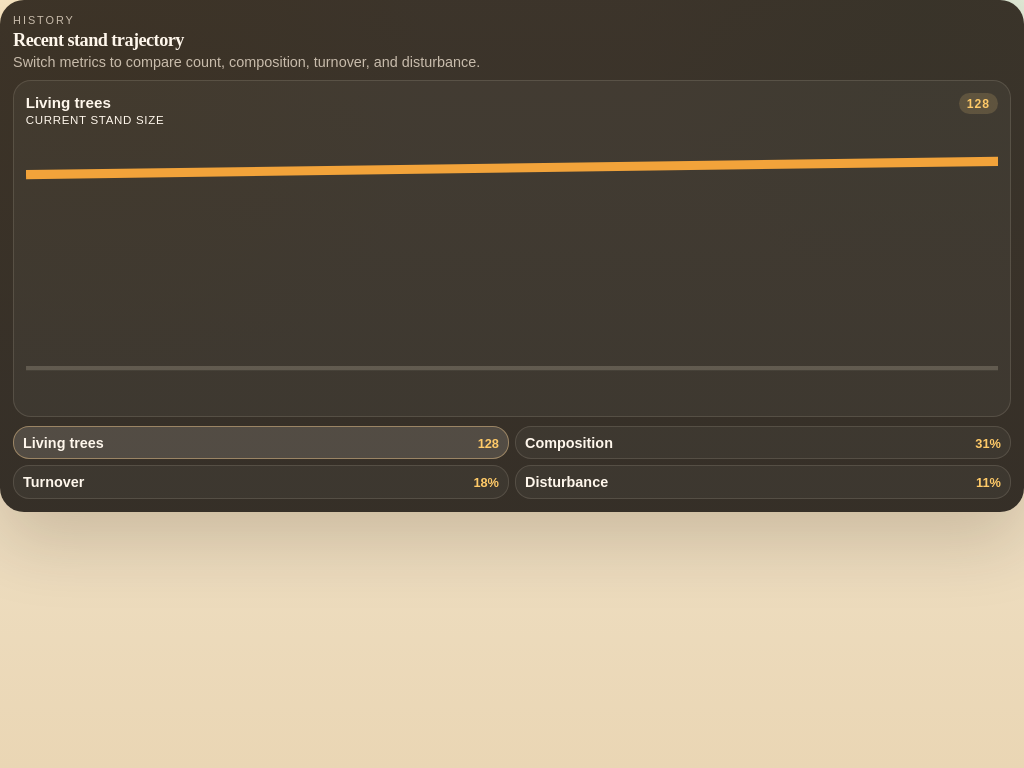
Test case: ChartsPanel › switches to the composition trend and shows the temperament legend
Check: the picture named "Living trees trend" is shown, box [26,137,998,405]
Check: the text "Large Gambler" is not shown
Click the button with aria-label "composition by temperament": {"x": 569, "y": 443} [515,426,1011,459]
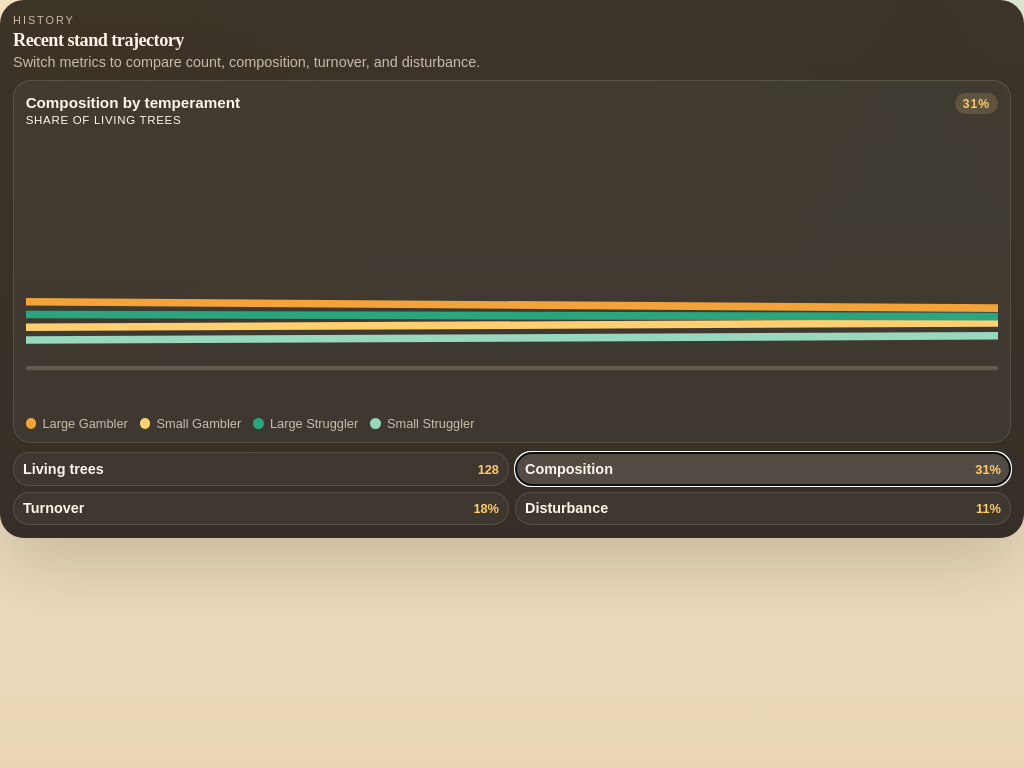
Check: the text "Large Gambler" is shown, box [26,416,128,431]
Check: the text "Small Gambler" is shown, box [140,416,241,431]
Check: the text "Large Struggler" is shown, box [253,416,358,431]
